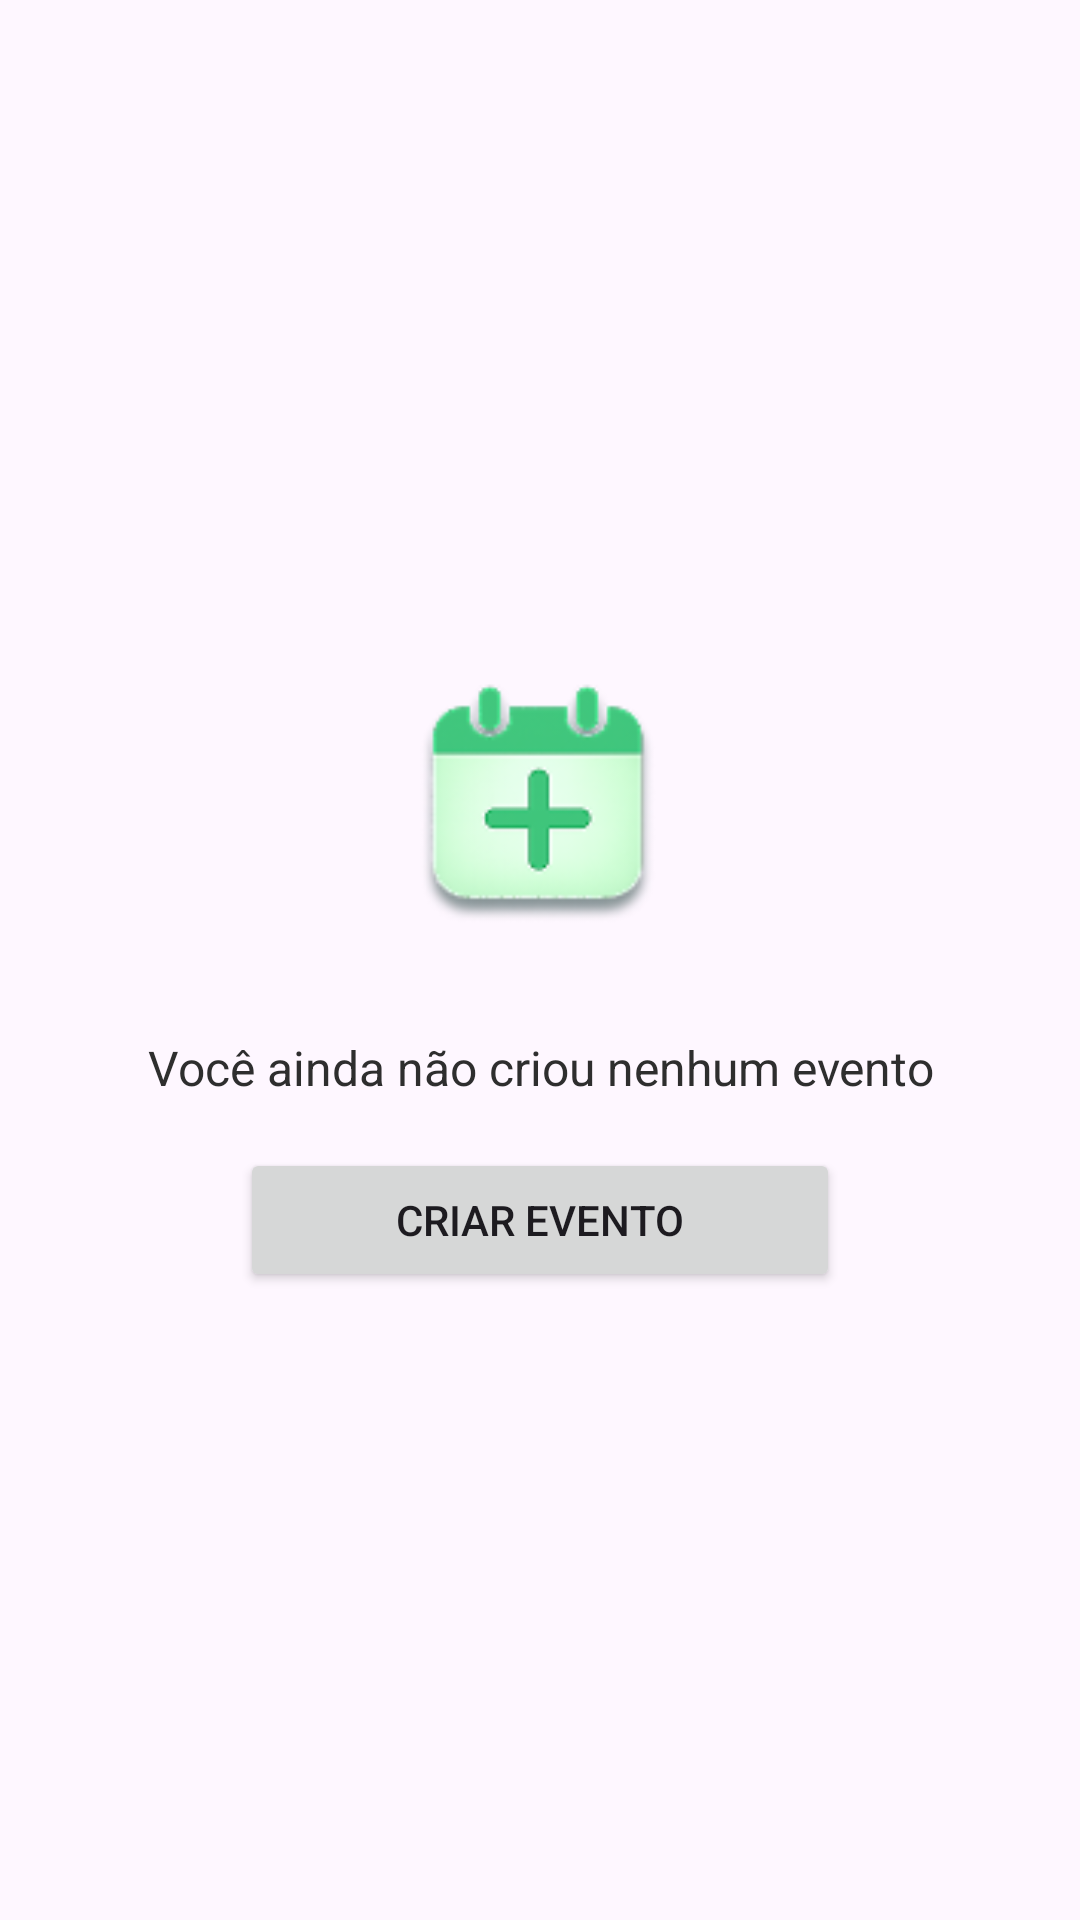

Locate icon controls on the screen. Image size 1080 x 1920, boxes as (x1, y1, x2, y2).
calendariomais: (428, 686, 647, 915)
